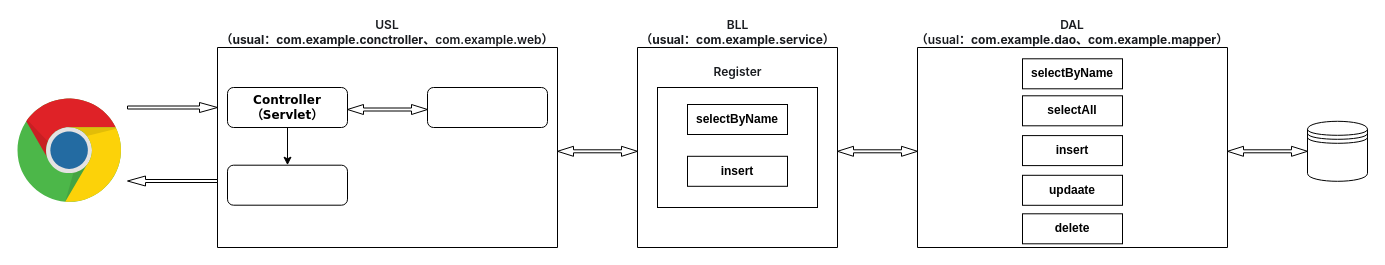
The diagram is 1385 pixels wide and 265 high, and some of its shapes have lost their labels. The centre of each missing label's shape, as x and y in pixels:
"DB" goes at (1337,150).
"Model （JavaBean)" goes at (487,107).
"View (JSP)" goes at (287,184).
